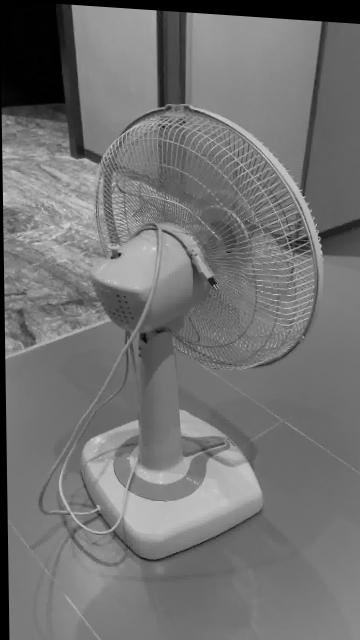Fan: (79, 101, 322, 561)
